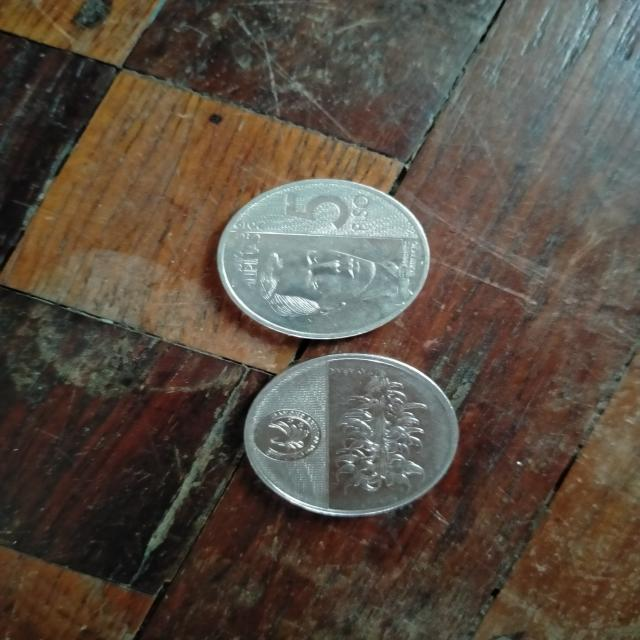5_New_Back: (326, 364, 446, 498)
5_New_Front: (276, 182, 376, 239)
